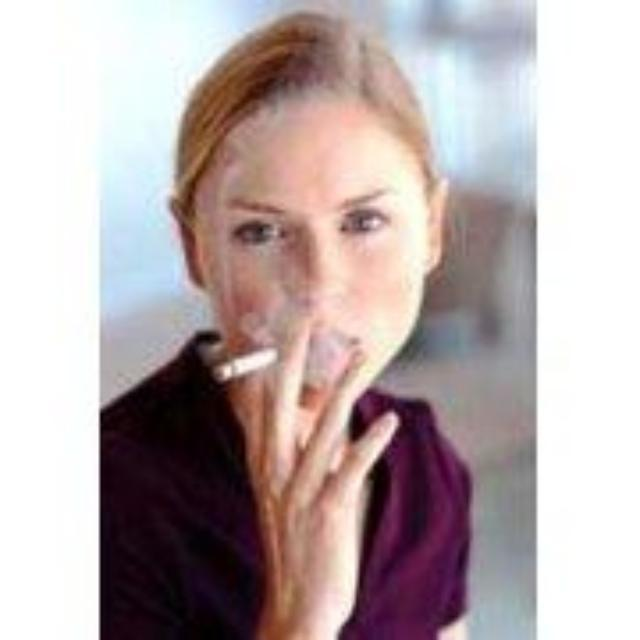SafeDriving: (222, 200, 304, 253), (327, 190, 403, 247)
Smoking: (218, 338, 296, 382)
